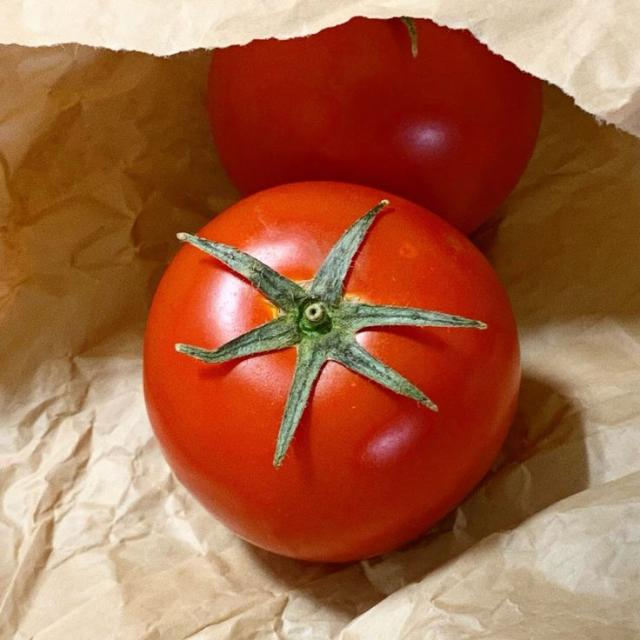tomato: (144, 182, 519, 560), (209, 19, 541, 233)
